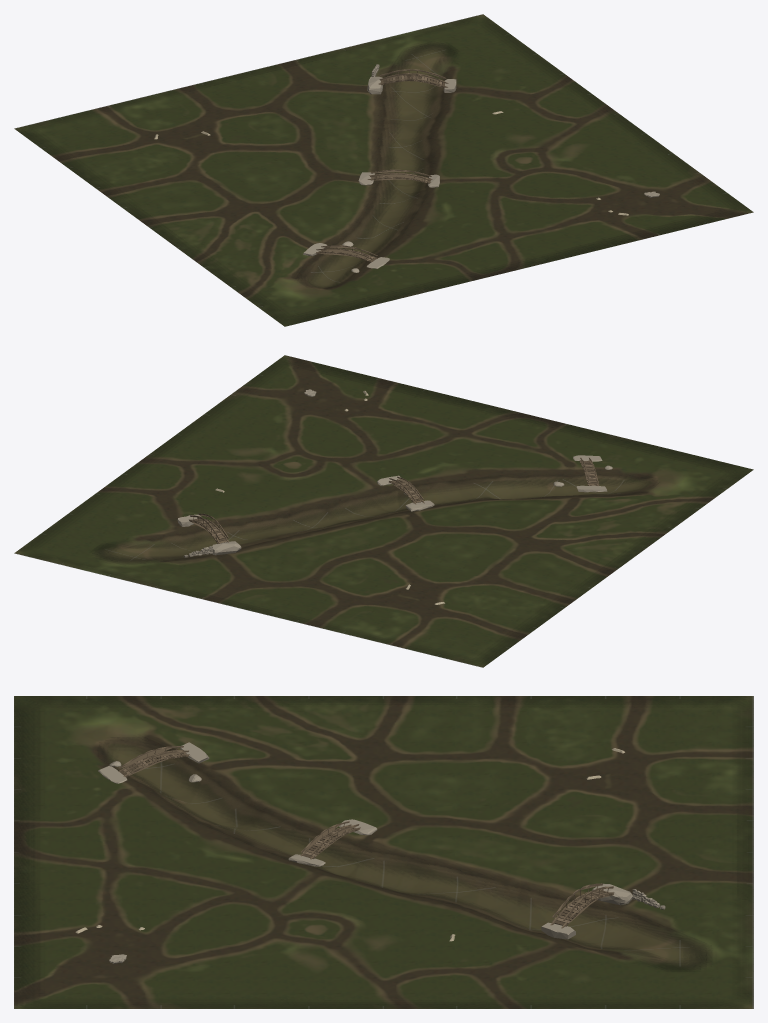
File: Forest_Stepable.fbx
3 renders of one model, top to bottom at view 1: azimuth 30°, elevation 25°; view 2: azimuth 150°, elevation 25°; view 3: azimuth 270°, elevation 25°, orthographic. The views are drawn at different scales.
Visible parts, largest first — view 1: Plane001, PolygonNature_01, PolygonNature_Tree_02; view 2: Plane001, PolygonNature_01, PolygonNature_Tree_02; view 3: Plane001, PolygonNature_01, PolygonNature_Tree_02.
Boxes of the visible parts, x1,y1,x2,y2 form: Plane001: (14,14,753,326); PolygonNature_01: (154,64,659,262); PolygonNature_Tree_02: (303,76,456,268); Plane001: (14,355,753,667); PolygonNature_01: (183,389,599,604); PolygonNature_Tree_02: (177,455,607,555); Plane001: (14,696,753,1008); PolygonNature_01: (75,746,665,963); PolygonNature_Tree_02: (98,742,632,939).
Bounding box in the file's own units: 96.65 × 6.53 × 96.65.
2 materials, 2 textured.
